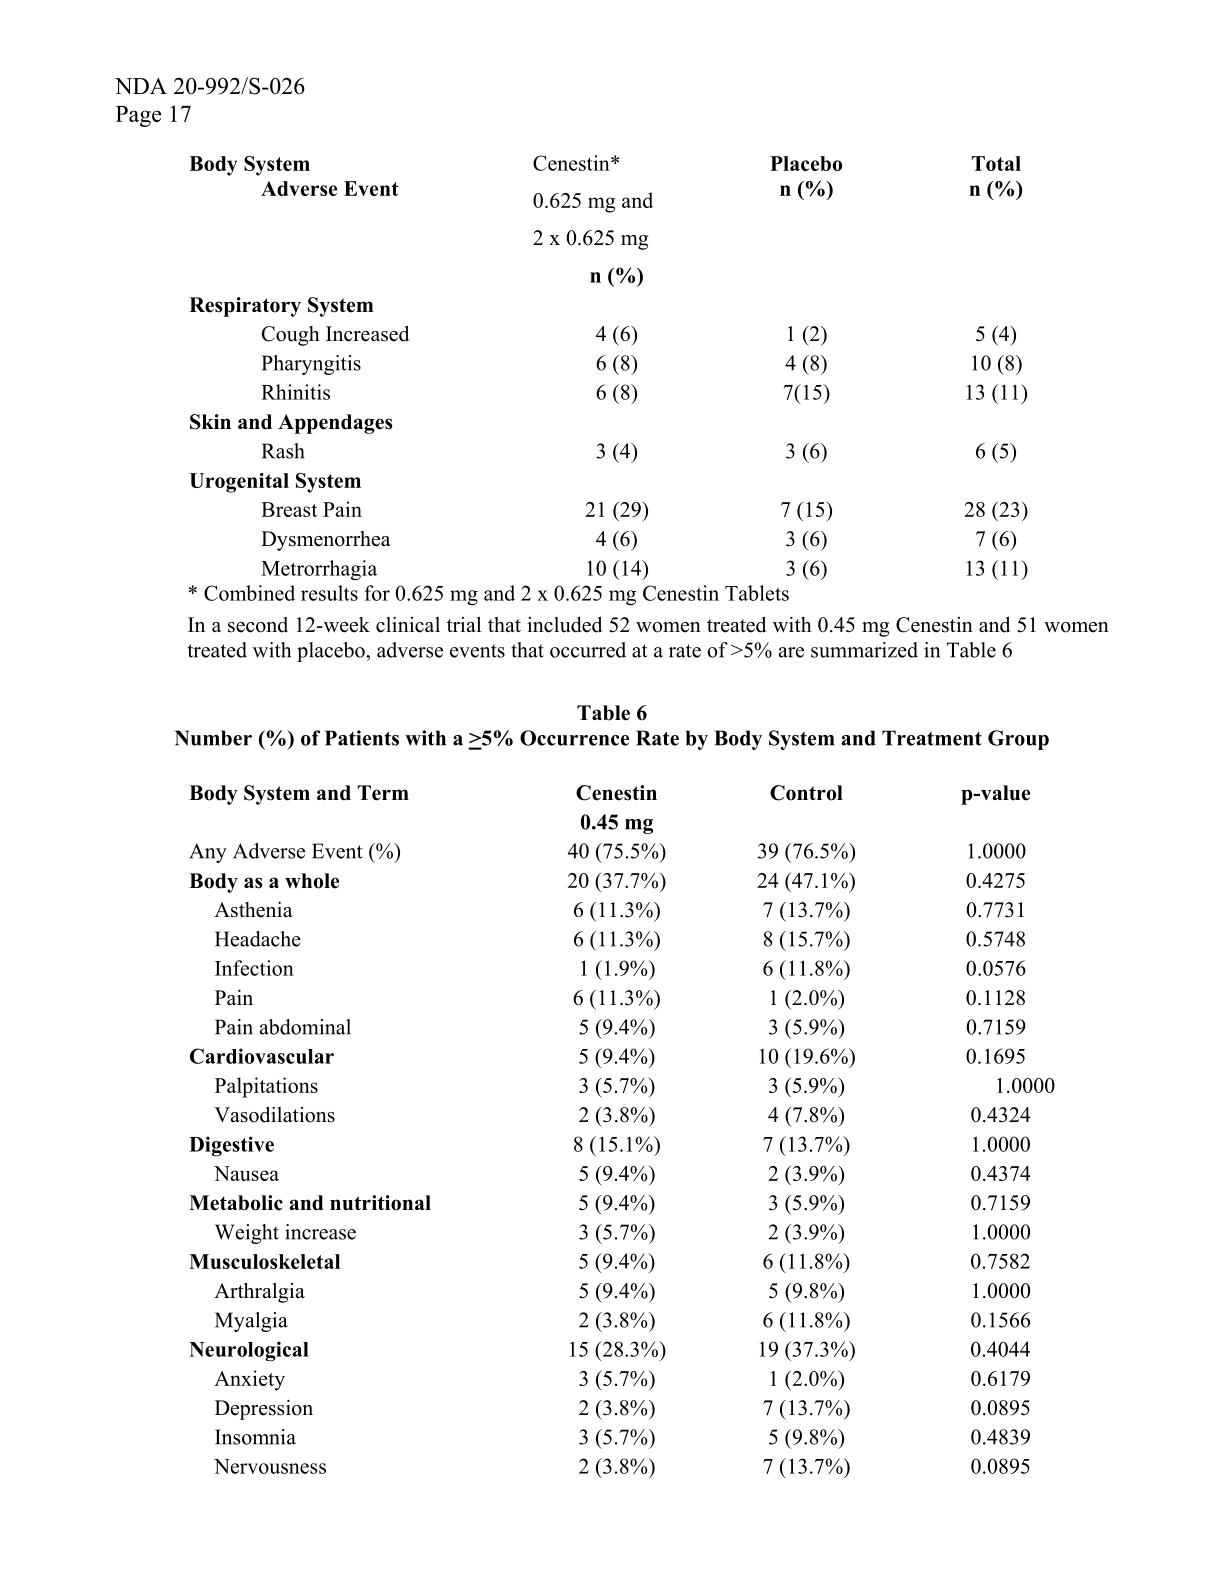nolines: (186, 778, 1056, 1482), (183, 150, 1031, 582)
